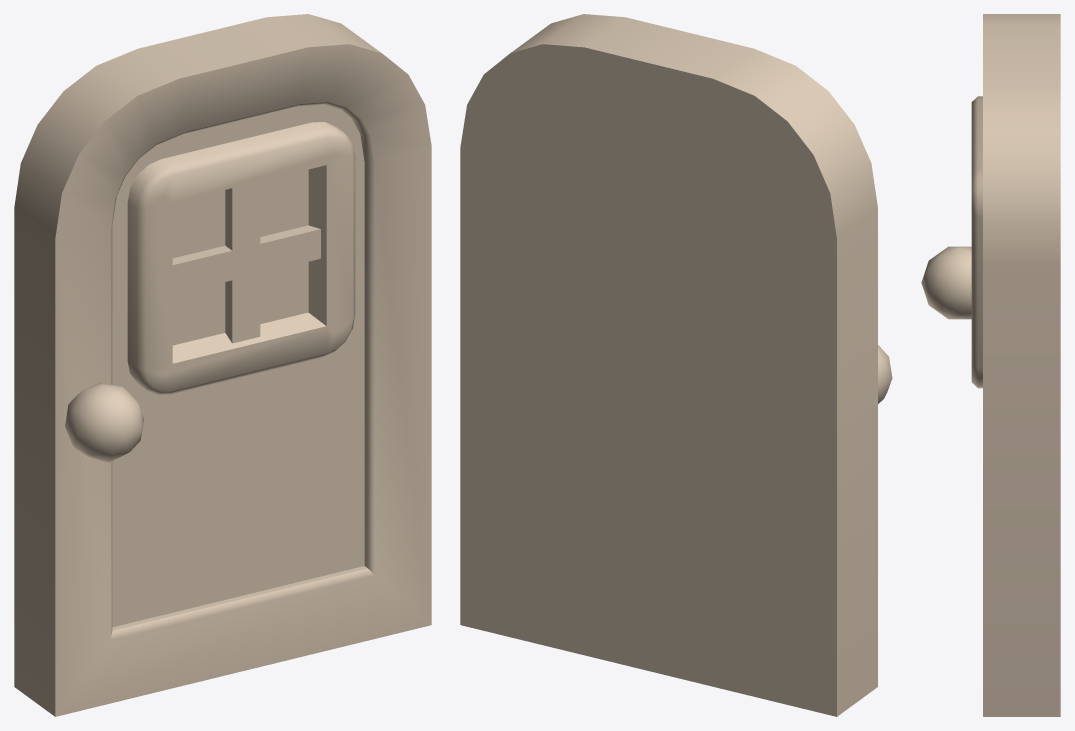
File: house_door.glb
The picture shows the model from 3 angles, left to right: view 1: azimuth 30°, elevation 25°; view 2: azimuth 150°, elevation 25°; view 3: azimuth 270°, elevation 25°; orthographic projection. The views are drawn at different scales.
Parts seen in each view (by area): view 1: house_door; view 2: house_door; view 3: house_door.
Part boxes in pixels (left/top/right/bottom): house_door: left=14, top=14, right=431, bottom=716; house_door: left=460, top=14, right=892, bottom=716; house_door: left=921, top=14, right=1060, bottom=716.
Bounding box in the file's own units: 1.62 × 2.5 × 0.55.
